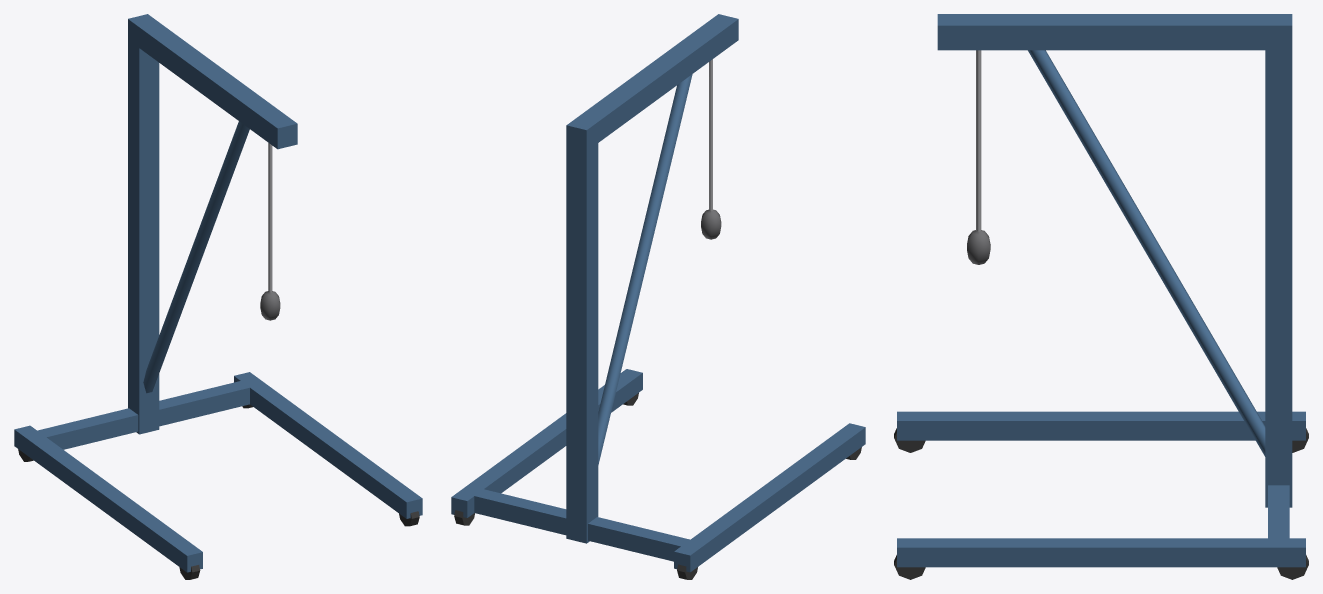
Rendered from garage_engine_hoist_a.glb.
3 views of the same model, side by side, from view 1: azimuth 30°, elevation 25°; view 2: azimuth 150°, elevation 25°; view 3: azimuth 270°, elevation 25° (orthographic). The views are drawn at different scales.
Visible parts, largest first — view 1: body; view 2: body; view 3: body.
Boxes of the visible parts, box(x1,y1,x2,y2) form: body: box(14, 14, 422, 579); body: box(451, 14, 865, 579); body: box(894, 14, 1308, 579).
Size of what is drawn, in the model's own units: 1.18 by 2 by 1.52.
